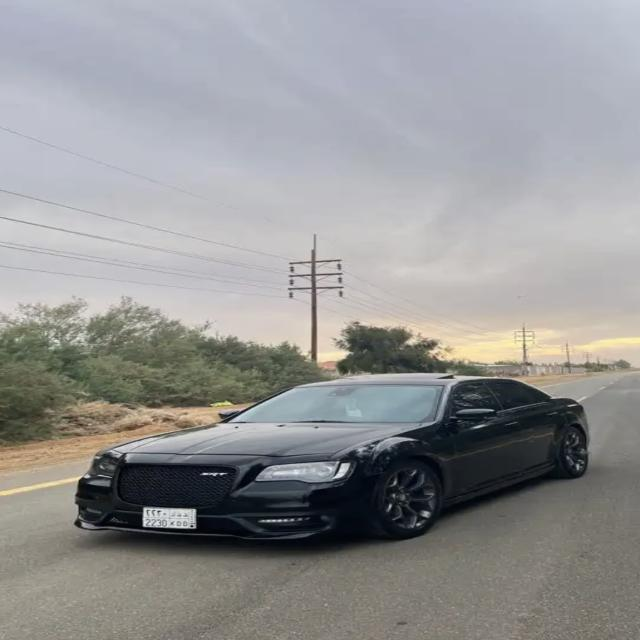license_plate: (142, 507, 198, 532)
